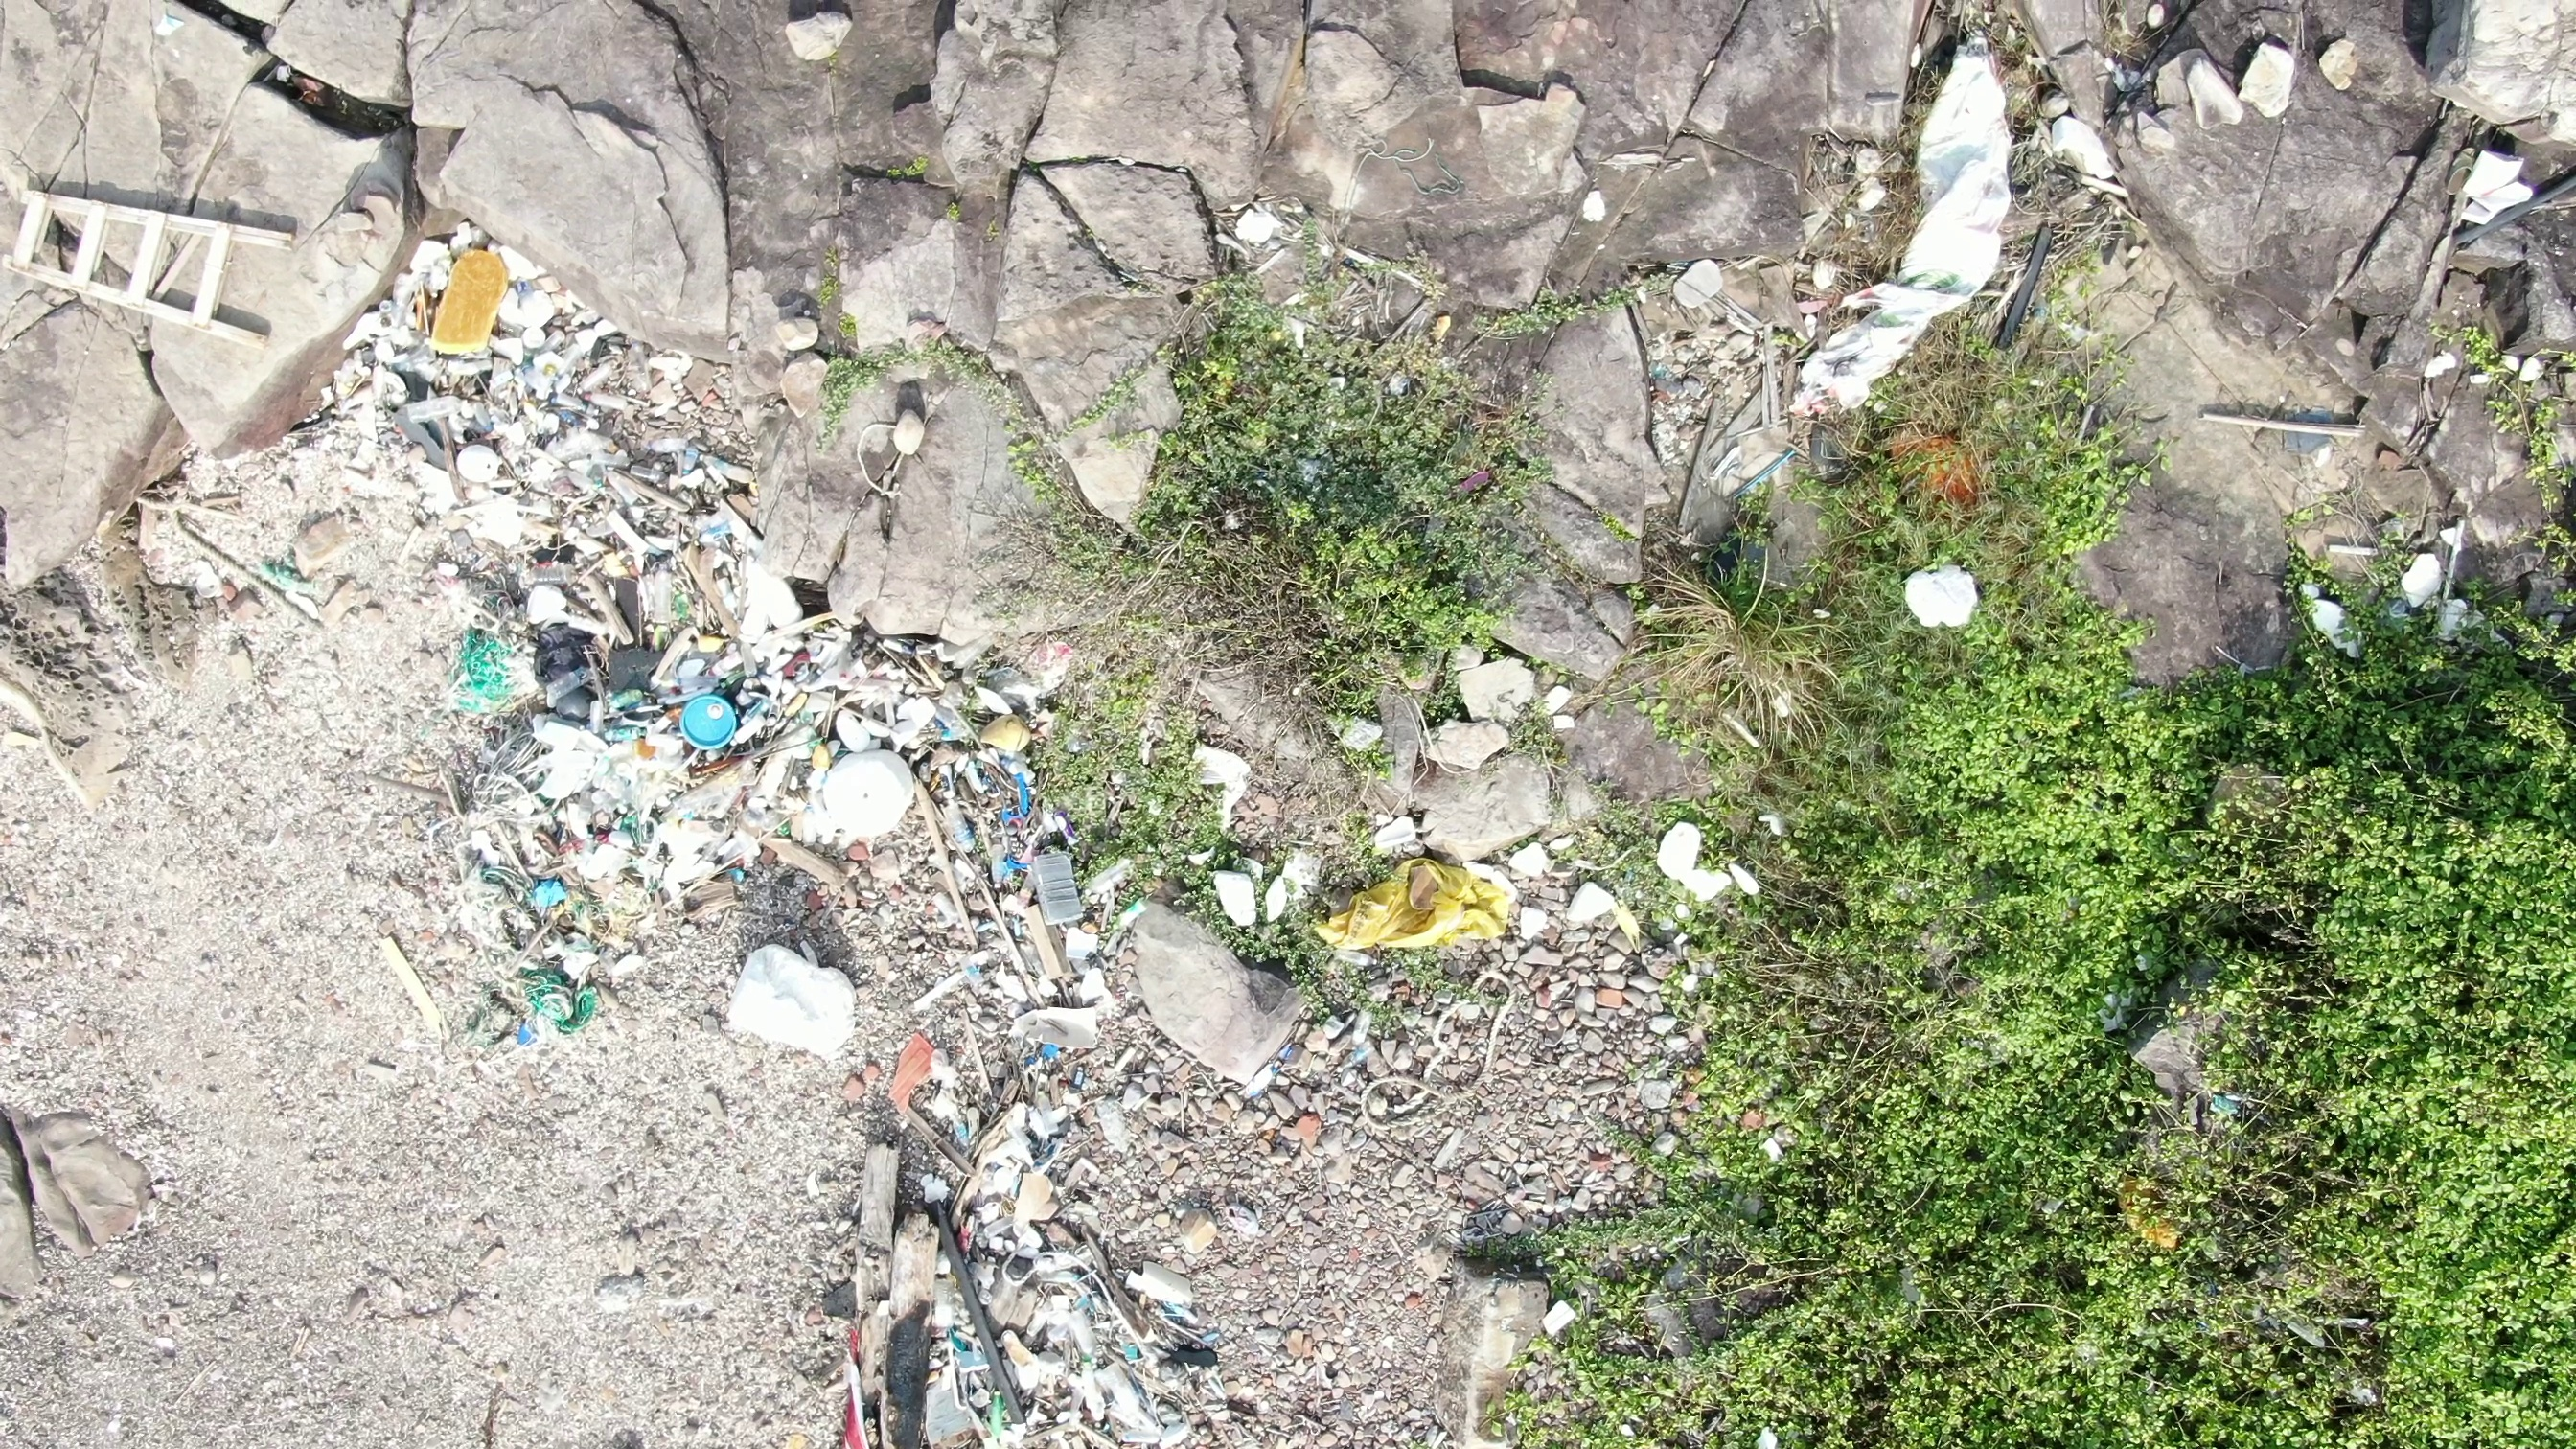garbage: (423, 423, 1053, 918), (826, 839, 1104, 1449), (1649, 25, 2026, 433), (324, 205, 602, 425), (2, 202, 315, 349), (2, 1072, 157, 1306), (444, 920, 646, 1063), (1307, 847, 1532, 970), (1106, 1261, 1237, 1449), (1893, 550, 1985, 648)
